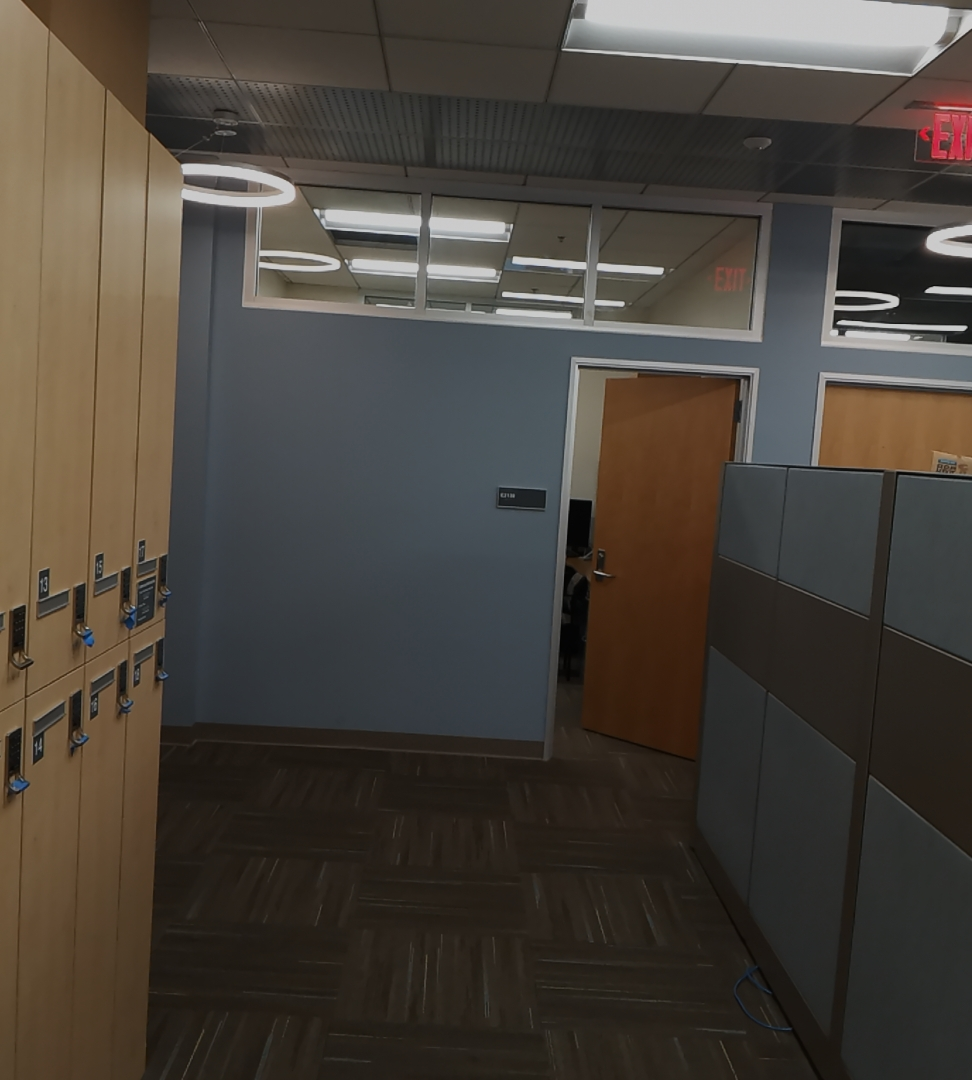emergency_exit: (910, 103, 970, 167)
